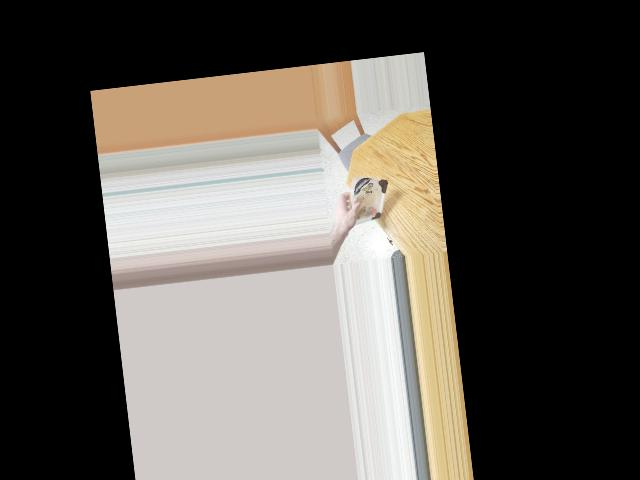cheese: (347, 172, 387, 227)
